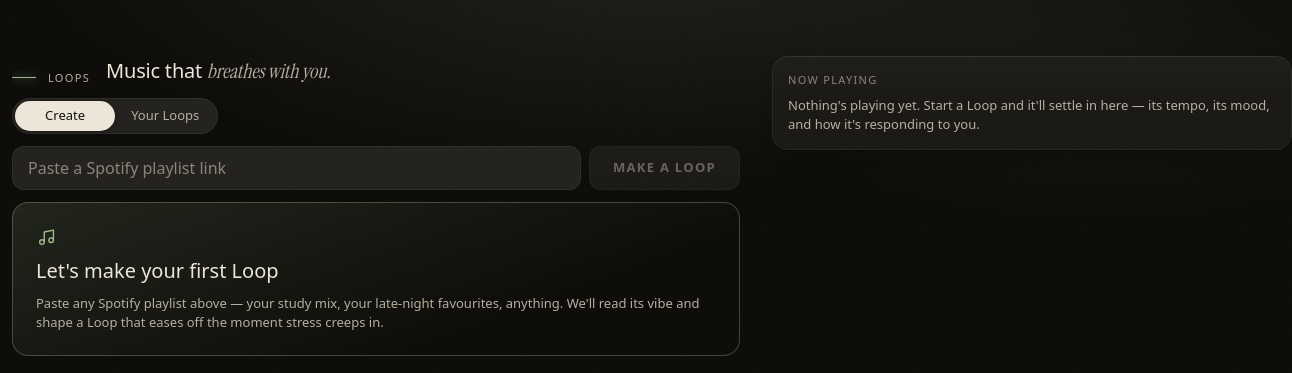
Loops — Your Loops › plays, renames and removes saved Loops
The image size is (1292, 373).
Click the tab "Your Loops": (165, 116) [115,101,215,131]
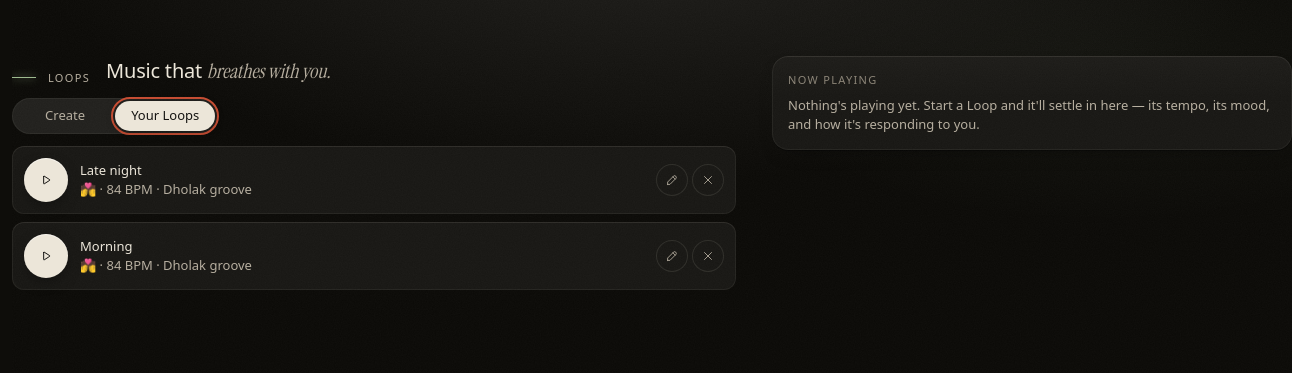
Click the button named "Play Late night": (46, 180) [24,158,68,202]
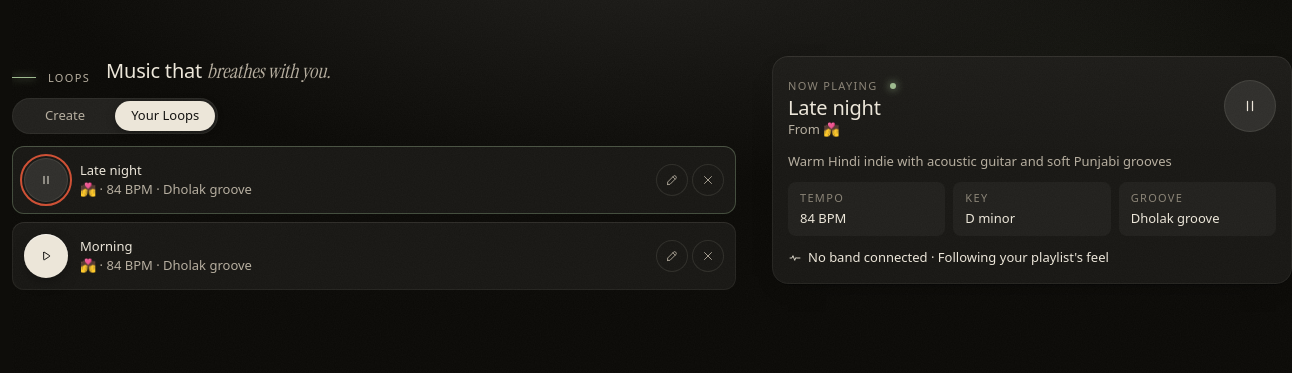
Check: the button named "Pause Late night" is shown, box [24,158,68,202]
Click the button named "Rename Morning": (672, 256) [656,240,688,272]
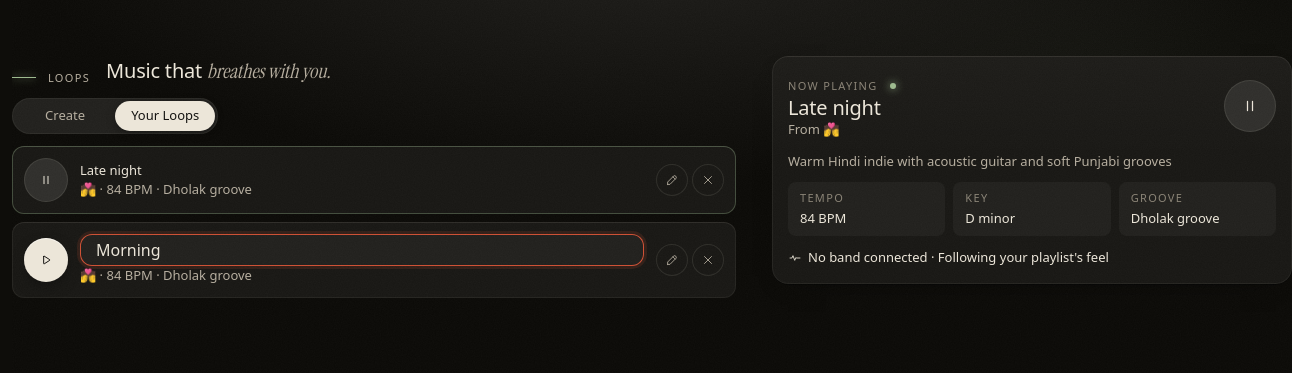
Replace the text in the field named "Loop name" with "Sunrise": (362, 250) [80,234,644,266]
Then press Enter
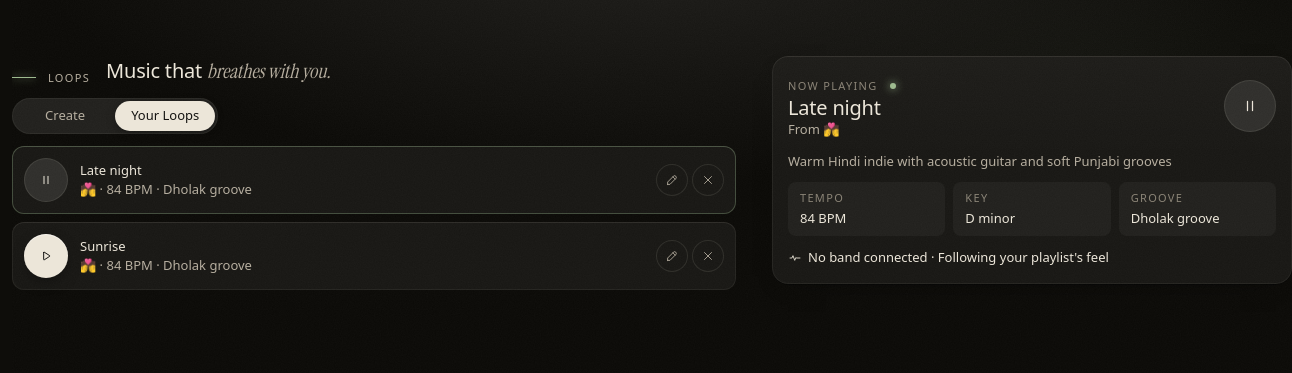
Check: the text "Sunrise" is shown, box [80,236,126,254]
Click the button named "Remove Sunrise": (708, 256) [692,240,724,272]
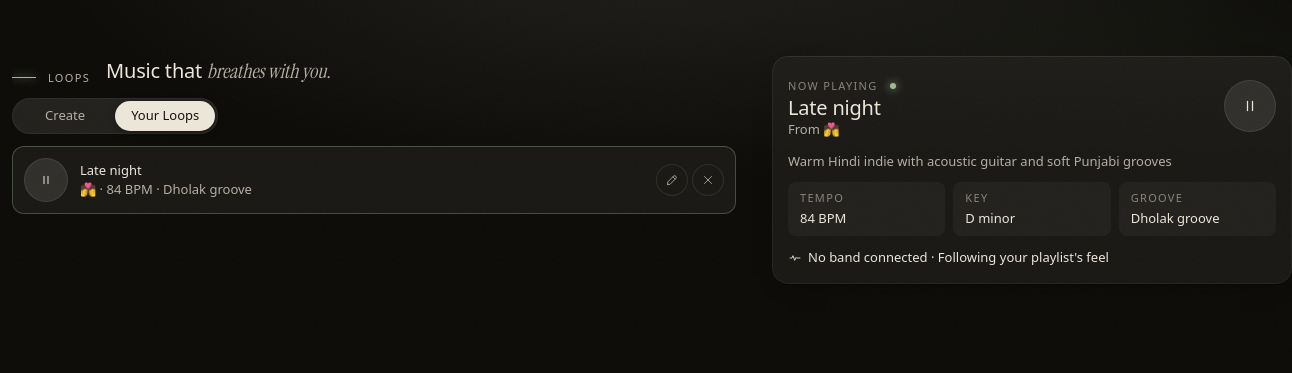
Check: the text "Sunrise" is gone
